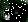person: (5, 7, 12, 20), (16, 7, 21, 21)
